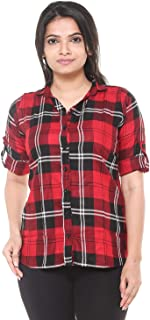shirt: (1, 74, 148, 269)
